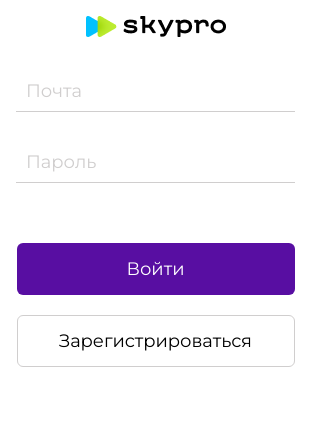
Signin component › should display error when email field does not include @
Type "test" into the field with placeholder "Почта".
click(156, 91); type("test")  # box [16,70,295,112]
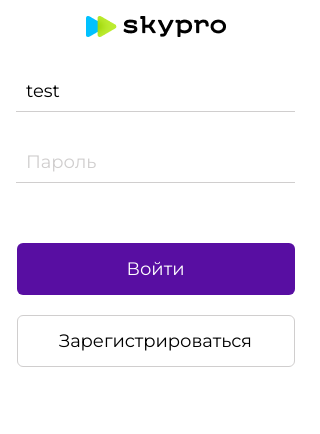
Click the button "Войти".
click(156, 268)  # box [16,242,294,294]
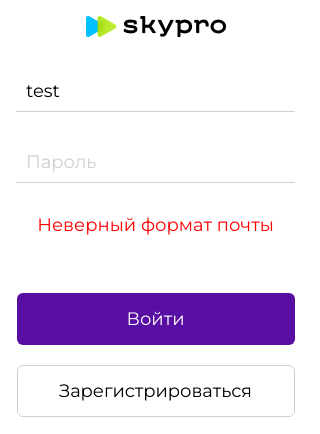
Expected: the text "Неверный формат почты" is shown, [37,212,274,236]
